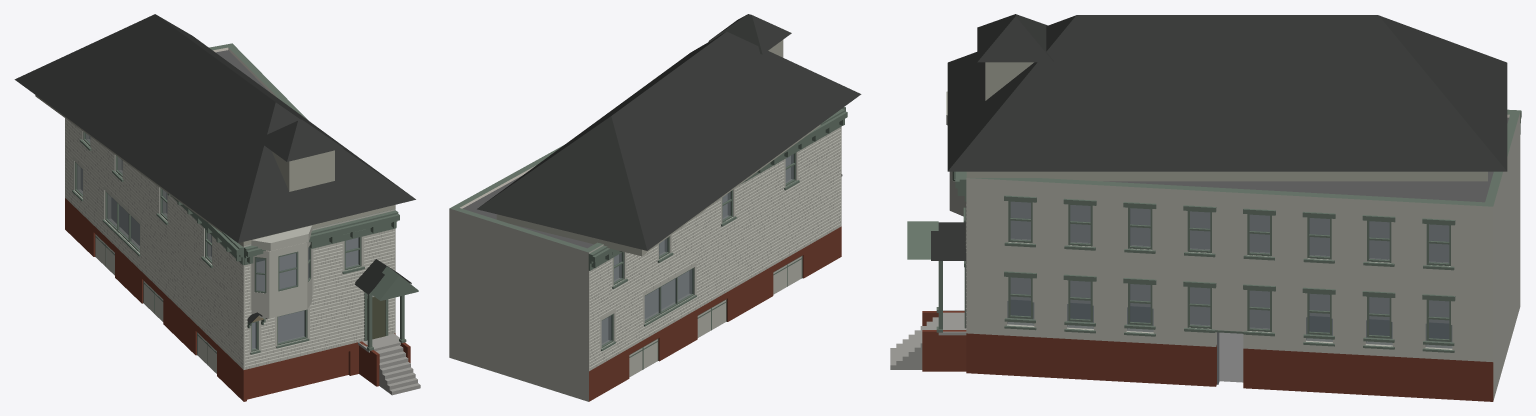
The model's file is exterior.glb.
3 views of the same model, side by side, from view 1: azimuth 30°, elevation 25°; view 2: azimuth 150°, elevation 25°; view 3: azimuth 270°, elevation 25° (orthographic). The views are drawn at different scales.
Parts seen in each view (by area): view 1: relief-3, shell, hyD-shingle-2, hand-ornament, storefront, hyD-shingle-3, bay-windows, trim, glazing, shadow-proxy, frames, bay-glazing (+1 smaller); view 2: shell, relief-3, hyD-shingle-2, glazing, storefront, trim, shadow-proxy, frames, roof; view 3: shell, relief-3, glazing, shadow-proxy, trim, hand-ornament, frames, roof.
Boxes of the visible parts, <box> form: relief-3: <box>14,14,415,246</box>; shell: <box>65,43,395,401</box>; hyD-shingle-2: <box>65,118,243,366</box>; hand-ornament: <box>247,259,420,395</box>; storefront: <box>95,234,348,399</box>; hyD-shingle-3: <box>245,229,394,368</box>; bay-windows: <box>251,225,312,318</box>; trim: <box>72,139,399,354</box>; glazing: <box>77,133,358,349</box>; shadow-proxy: <box>81,136,357,348</box>; frames: <box>74,132,361,351</box>; bay-glazing: <box>254,245,310,293</box>; shell: <box>449,126,841,401</box>; relief-3: <box>477,14,861,256</box>; hyD-shingle-2: <box>589,127,840,367</box>; glazing: <box>601,154,793,345</box>; storefront: <box>629,255,802,377</box>; trim: <box>588,107,847,350</box>; shadow-proxy: <box>602,156,790,343</box>; frames: <box>601,153,795,347</box>; roof: <box>462,175,593,248</box>; shell: <box>966,110,1520,401</box>; relief-3: <box>947,14,1507,181</box>; glazing: <box>1007,201,1452,348</box>; shadow-proxy: <box>1011,202,1451,382</box>; trim: <box>955,109,1521,352</box>; hand-ornament: <box>890,221,966,371</box>; frames: <box>1008,201,1451,341</box>; roof: <box>1103,117,1508,202</box>.
Bounding box in the file's own units: 11.18 × 12.53 × 23.
